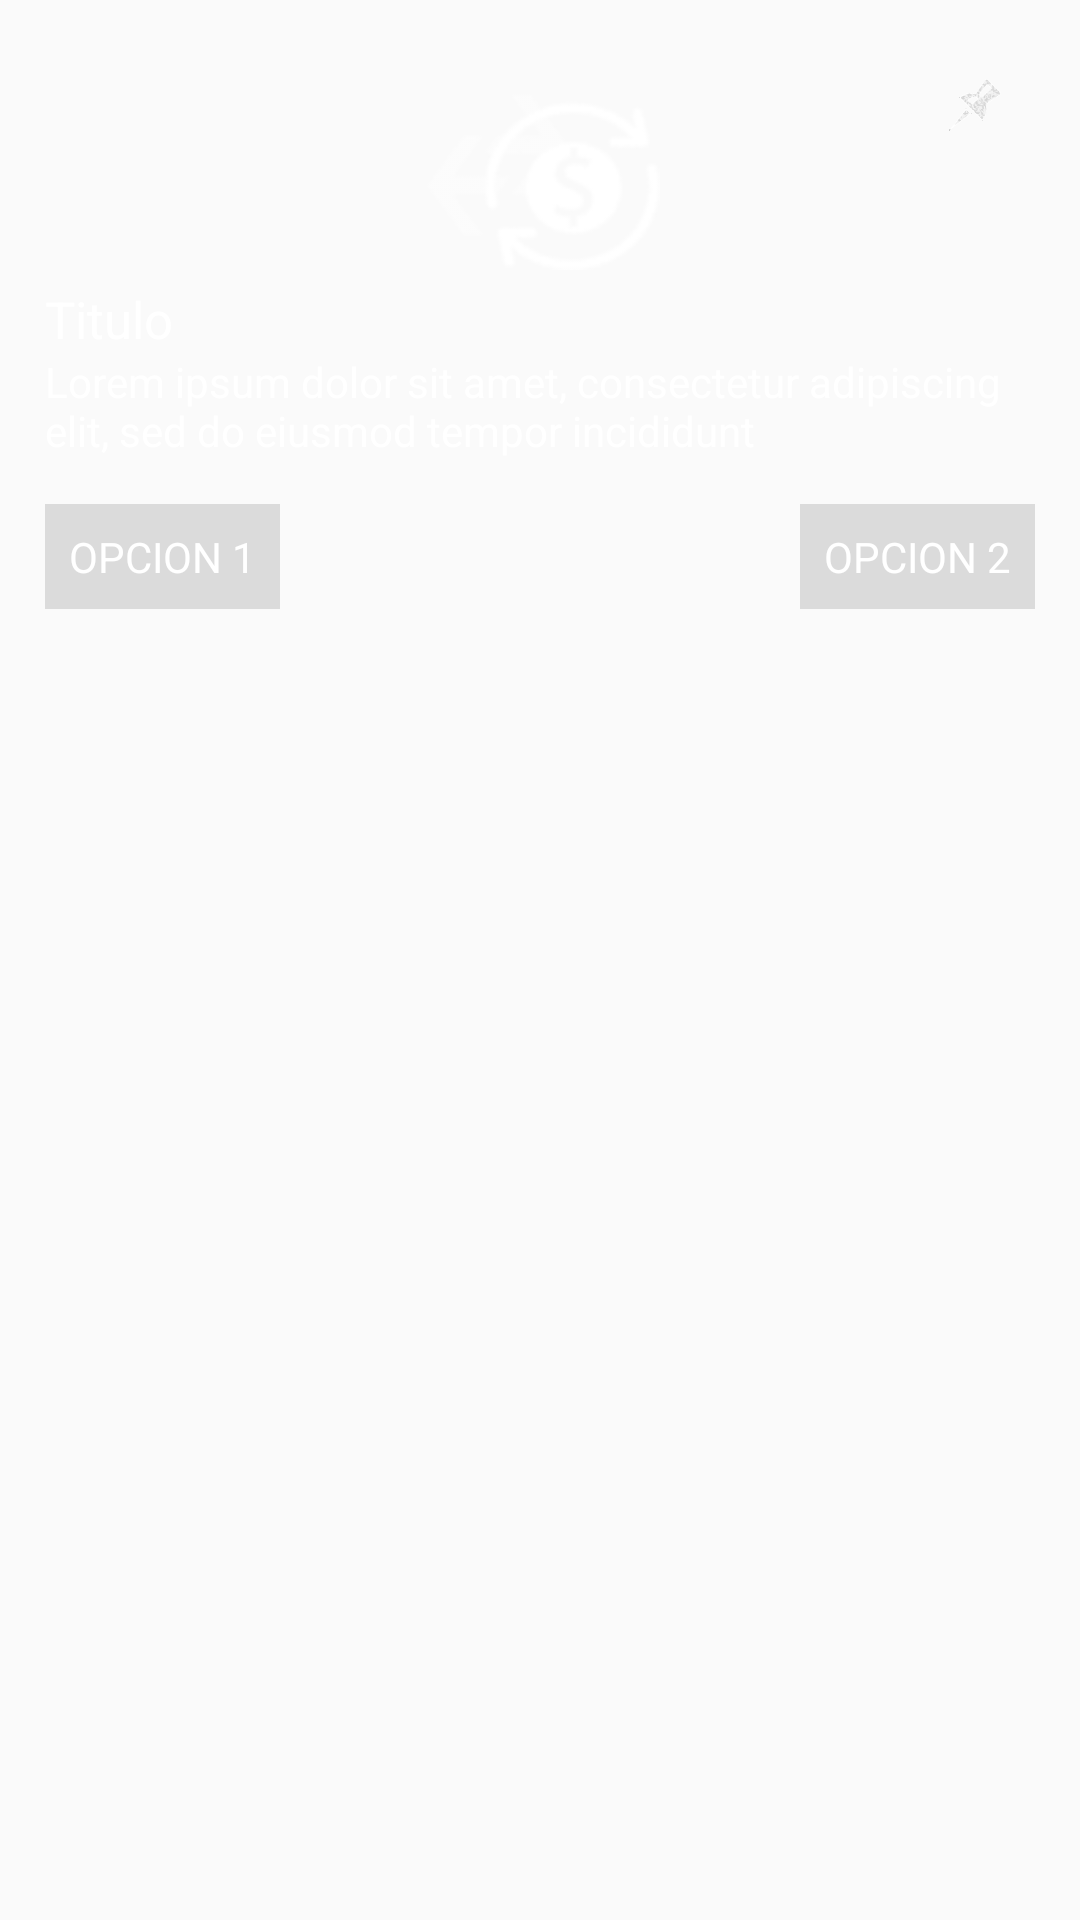

Locate icon controls on the screen. Image size 1080 x 1920, boxes as [x1=x1, y1=y1, x2=x2, y2=y2].
pin: [x1=949, y1=80, x2=1000, y2=131]
